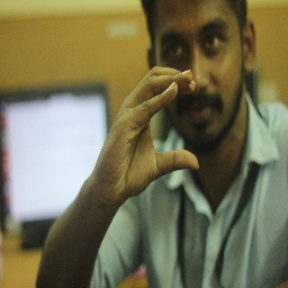C: (119, 64, 207, 184)
